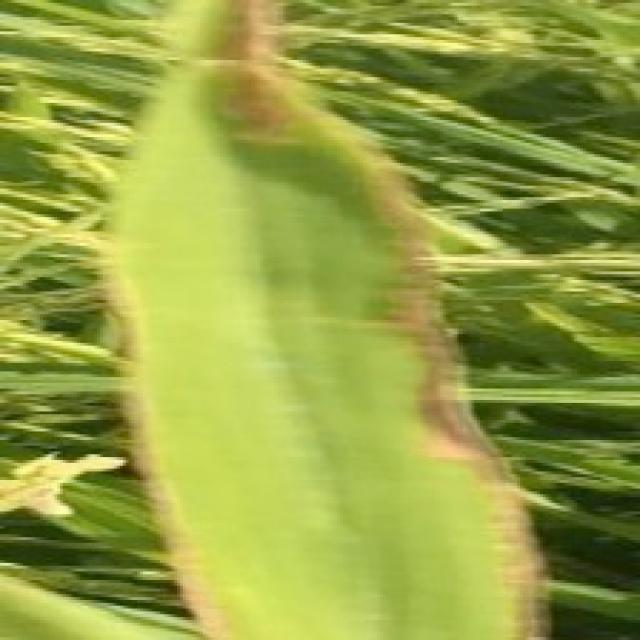Unhealthy: (346, 142, 546, 640), (211, 0, 304, 151)
